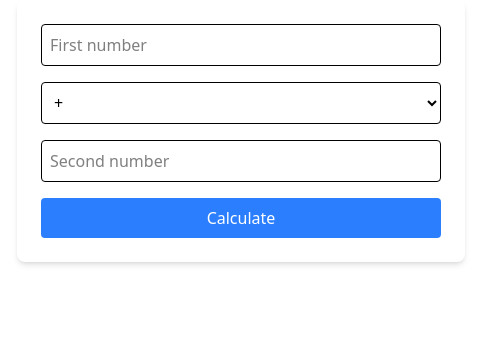
Test: Calculator Component › performs addition and displays result
Type "2" into the number field with placeholder "First number" at (241, 45), box [41,24,441,66]
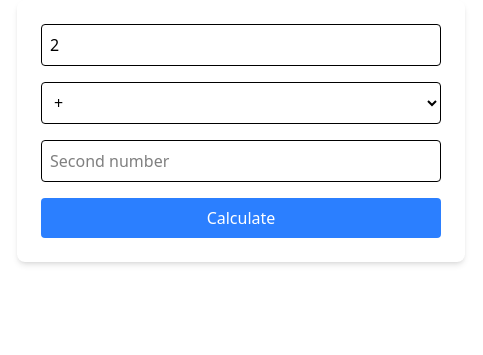
Type "3" into the number field with placeholder "Second number" at (241, 161), box [41,140,441,182]
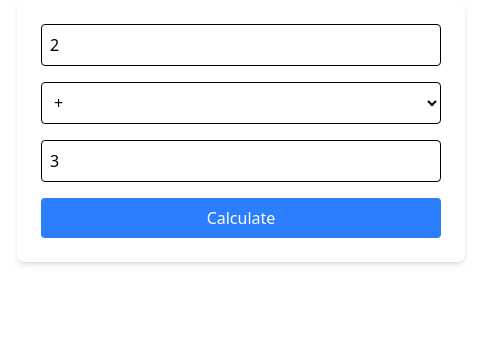
Click the button at (241, 218), box [41,198,441,238]
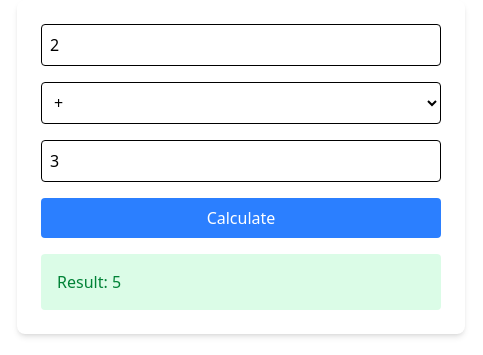
Result: the text "Result: 5" is shown at [41,254,441,310]
